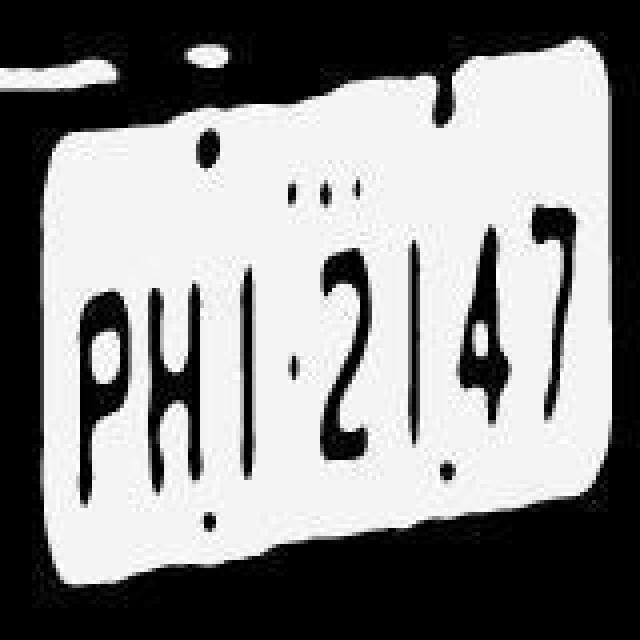1: (218, 258, 270, 486), (396, 220, 436, 452)
2: (310, 240, 378, 496)
4: (452, 204, 516, 452)
7: (516, 180, 588, 428)
H: (136, 246, 208, 490)
P: (64, 262, 136, 506)
